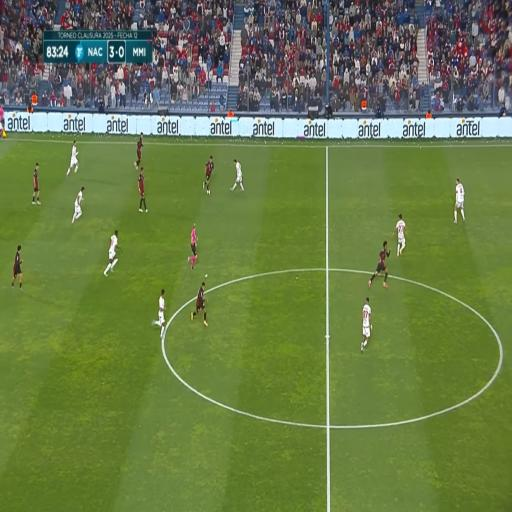Ball: (207, 188, 211, 197)
Player: (370, 240, 389, 291), (191, 281, 208, 327), (359, 298, 372, 350), (106, 230, 120, 276), (154, 290, 167, 337), (71, 186, 87, 224), (139, 168, 149, 212), (202, 155, 214, 191), (32, 161, 41, 207), (134, 132, 145, 169), (13, 246, 22, 291), (455, 179, 464, 223), (233, 158, 243, 195), (396, 214, 404, 254), (70, 137, 78, 175)
Referee: (188, 222, 198, 271), (0, 102, 7, 142)
